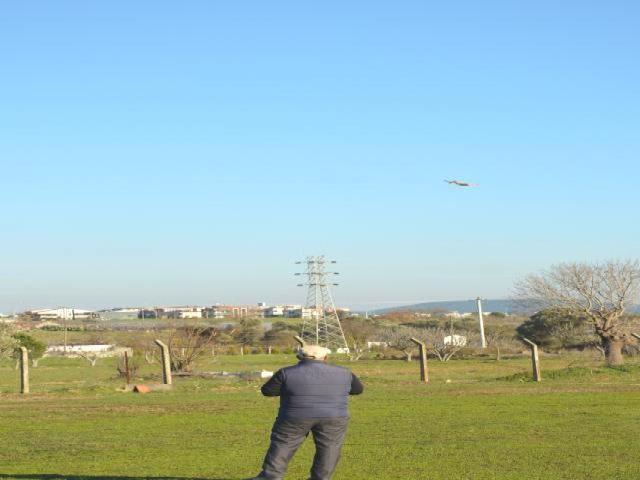iha: (445, 180, 479, 186)
